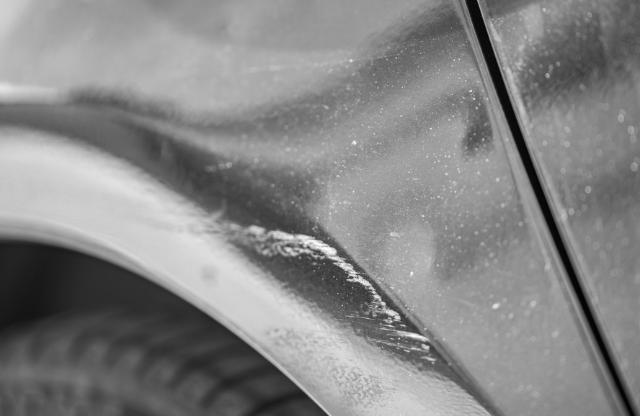Fender: (64, 67, 612, 416)
